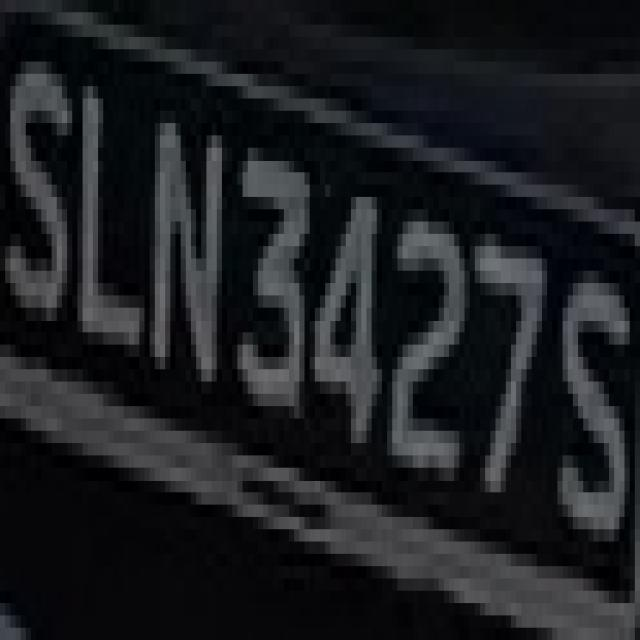2: (382, 197, 475, 529)
3: (237, 86, 315, 443)
4: (289, 123, 392, 505)
7: (464, 172, 558, 578)
L: (62, 49, 144, 382)
N: (134, 62, 238, 430)
S: (547, 222, 630, 578), (0, 12, 72, 344)
